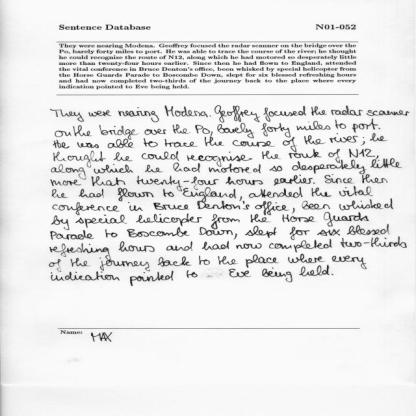Handwritten text: (44, 155, 407, 178), (49, 131, 395, 154), (46, 104, 412, 124), (41, 145, 379, 166), (37, 199, 396, 216), (49, 120, 384, 138), (42, 225, 391, 241), (43, 238, 410, 253), (44, 253, 374, 269), (47, 173, 393, 188), (49, 268, 334, 286), (39, 214, 381, 228), (50, 188, 377, 202)
